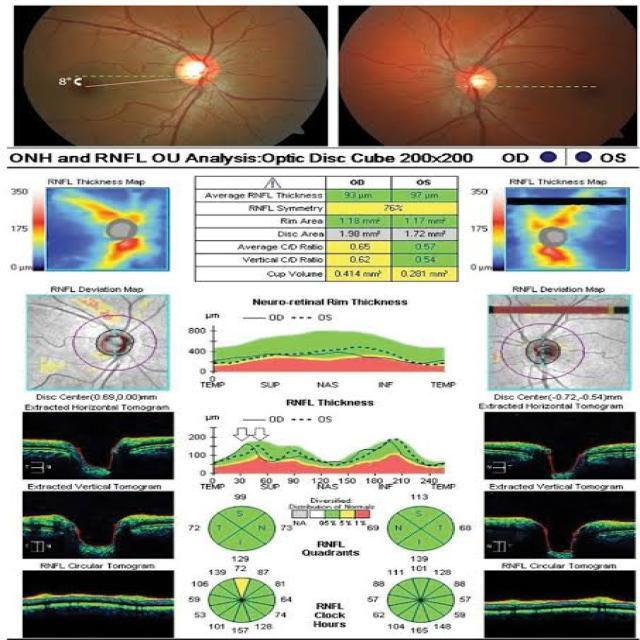rim area: (219, 214, 454, 228)
rim area-od: (333, 215, 382, 228)
rim area-os: (403, 214, 455, 227)
vertical cd ratio: (219, 255, 444, 265)
vertical cd ratio-od: (333, 254, 388, 265)
vertical cd ratio-os: (400, 254, 444, 266)
